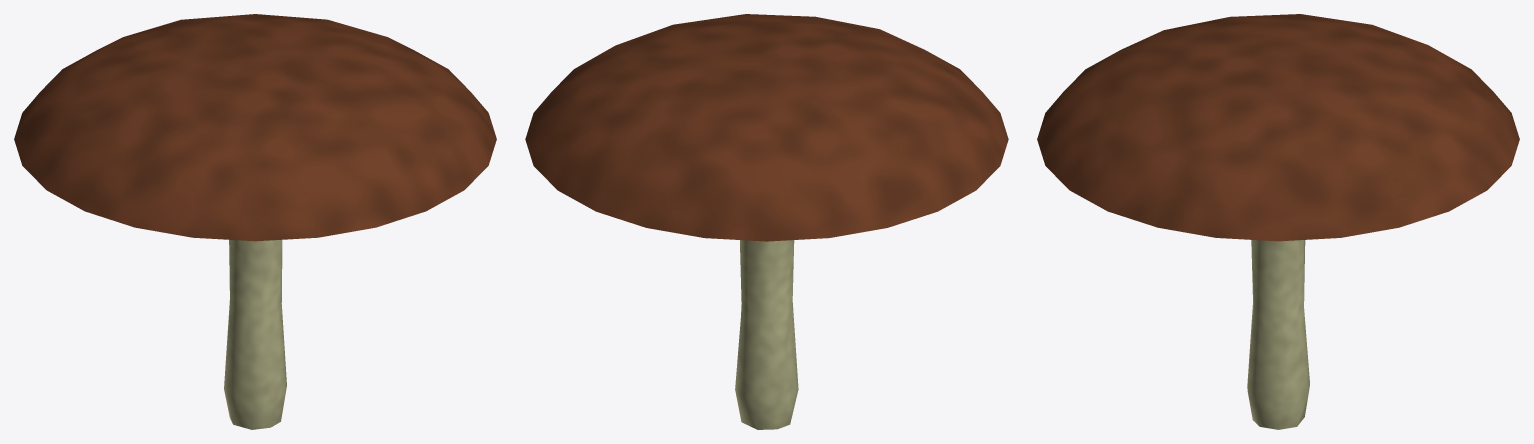
Rendered from MushroomMidle.glb.
The picture shows the model from 3 angles, left to right: view 1: azimuth 30°, elevation 25°; view 2: azimuth 150°, elevation 25°; view 3: azimuth 270°, elevation 25°; orthographic projection.
Visible parts, largest first — view 1: MushroomMidle; view 2: MushroomMidle; view 3: MushroomMidle.
Boxes of the visible parts, x1,y1,x2,y2 form: MushroomMidle: (14,14,496,429); MushroomMidle: (525,14,1008,429); MushroomMidle: (1037,14,1519,429).
Size of the model in its own units: 1.21 by 0.9787 by 1.21.
Materials: 1 (1 with a texture image).
